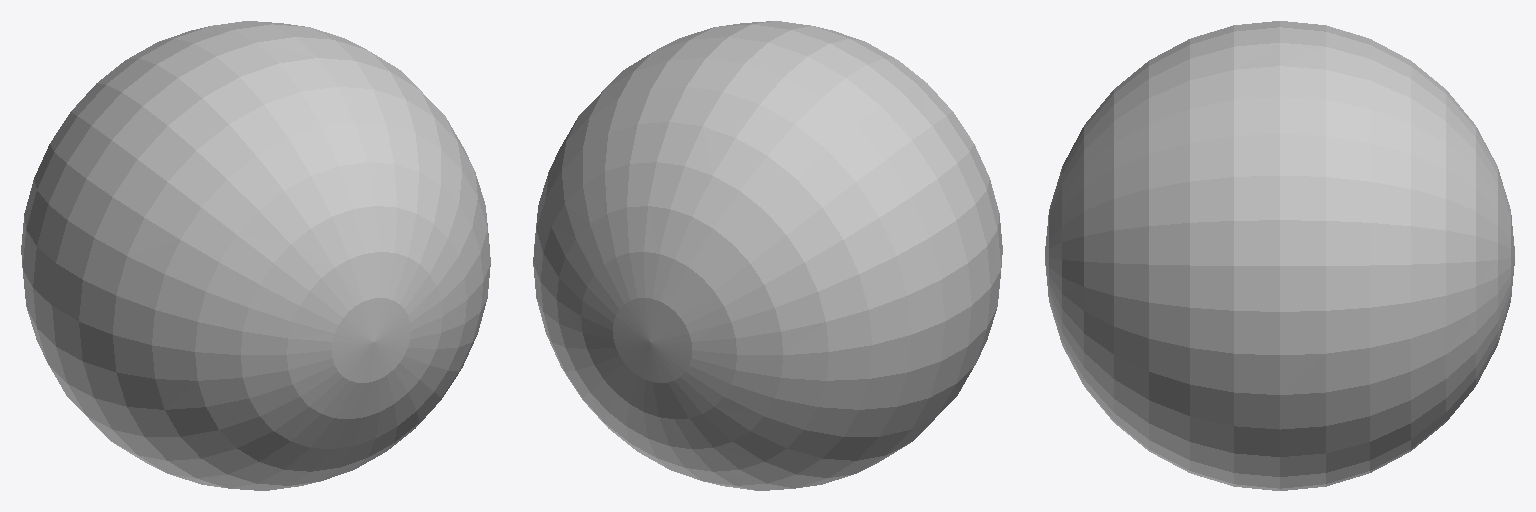
Rendered from Endoscope Tip.OBJ.
3 renders of one model, left to right at view 1: azimuth 30°, elevation 25°; view 2: azimuth 150°, elevation 25°; view 3: azimuth 270°, elevation 25°, orthographic.
Parts seen in each view (by area): view 1: /ambf/env/Endoscope_Tip_Endoscope_Tip; view 2: /ambf/env/Endoscope_Tip_Endoscope_Tip; view 3: /ambf/env/Endoscope_Tip_Endoscope_Tip.
Boxes of the visible parts, x1=… form: /ambf/env/Endoscope_Tip_Endoscope_Tip: x1=21, y1=21, x2=490, y2=490; /ambf/env/Endoscope_Tip_Endoscope_Tip: x1=533, y1=21, x2=1002, y2=490; /ambf/env/Endoscope_Tip_Endoscope_Tip: x1=1045, y1=21, x2=1514, y2=490.
Bounding box in the file's own units: 0.004 × 0.004 × 0.004.